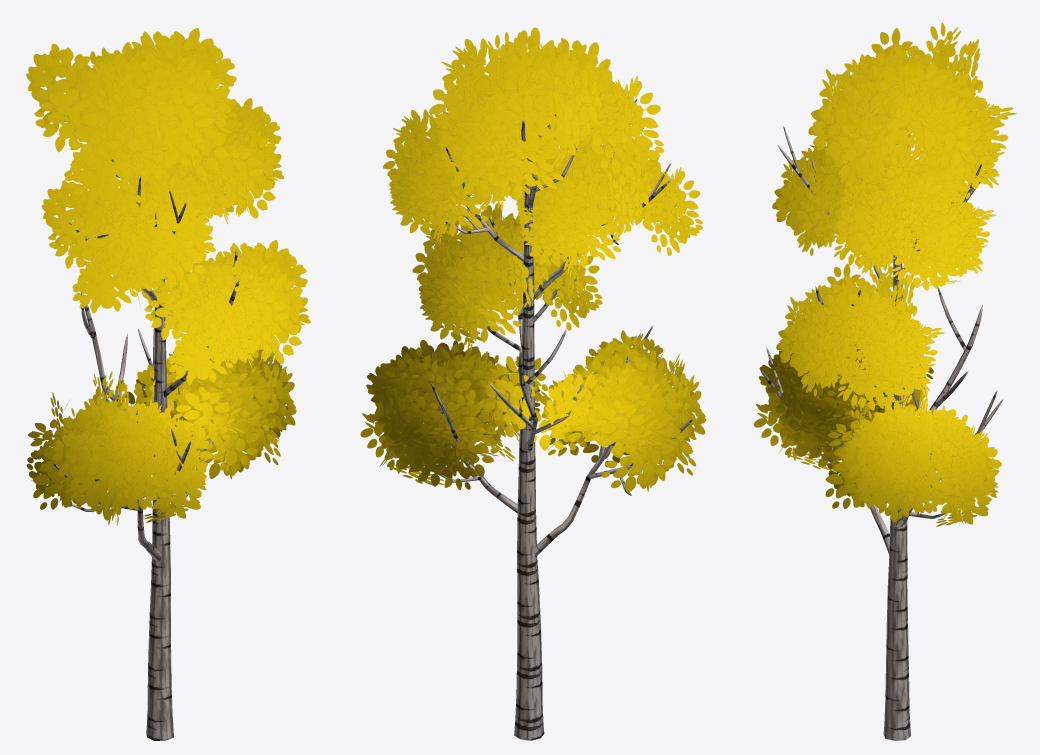
Rendered from BirchTree_2.glb.
The picture shows the model from 3 angles, left to right: view 1: azimuth 30°, elevation 25°; view 2: azimuth 150°, elevation 25°; view 3: azimuth 270°, elevation 25°; orthographic projection. The views are drawn at different scales.
Visible parts, largest first — view 1: BirchTree_2; view 2: BirchTree_2; view 3: BirchTree_2.
Boxes of the visible parts, box(x1,y1,x2,y2) form: BirchTree_2: box(26, 28, 310, 740); BirchTree_2: box(360, 27, 706, 740); BirchTree_2: box(754, 22, 1016, 740).
Size of the model in its own units: 3.35 by 7.57 by 2.81.
2 materials, 2 textured.
